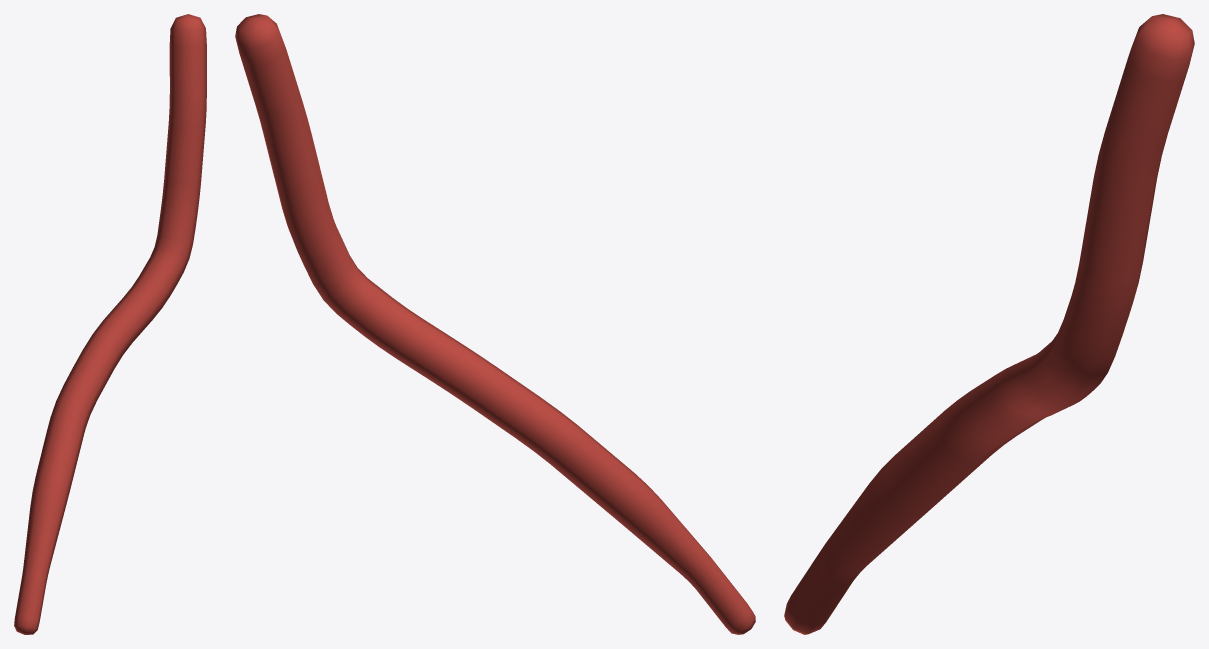
The model's file is musculos-tendon-sheath-of-flexor-pollicis-longus-r.glb.
3 renders of one model, left to right at view 1: azimuth 30°, elevation 25°; view 2: azimuth 150°, elevation 25°; view 3: azimuth 270°, elevation 25°, orthographic. The views are drawn at different scales.
Visible parts, largest first — view 1: Tendon sheath of flexor pollicis longus.r; view 2: Tendon sheath of flexor pollicis longus.r; view 3: Tendon sheath of flexor pollicis longus.r.
Boxes of the visible parts, x1,y1,x2,y2 form: Tendon sheath of flexor pollicis longus.r: (14, 14, 206, 634); Tendon sheath of flexor pollicis longus.r: (235, 14, 755, 634); Tendon sheath of flexor pollicis longus.r: (784, 14, 1194, 634).
Size of the model in its own units: 0.0544 by 0.0861 by 0.0383.
